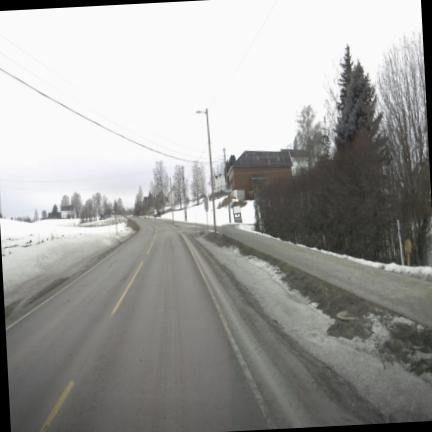Road: (6, 220, 357, 431)
